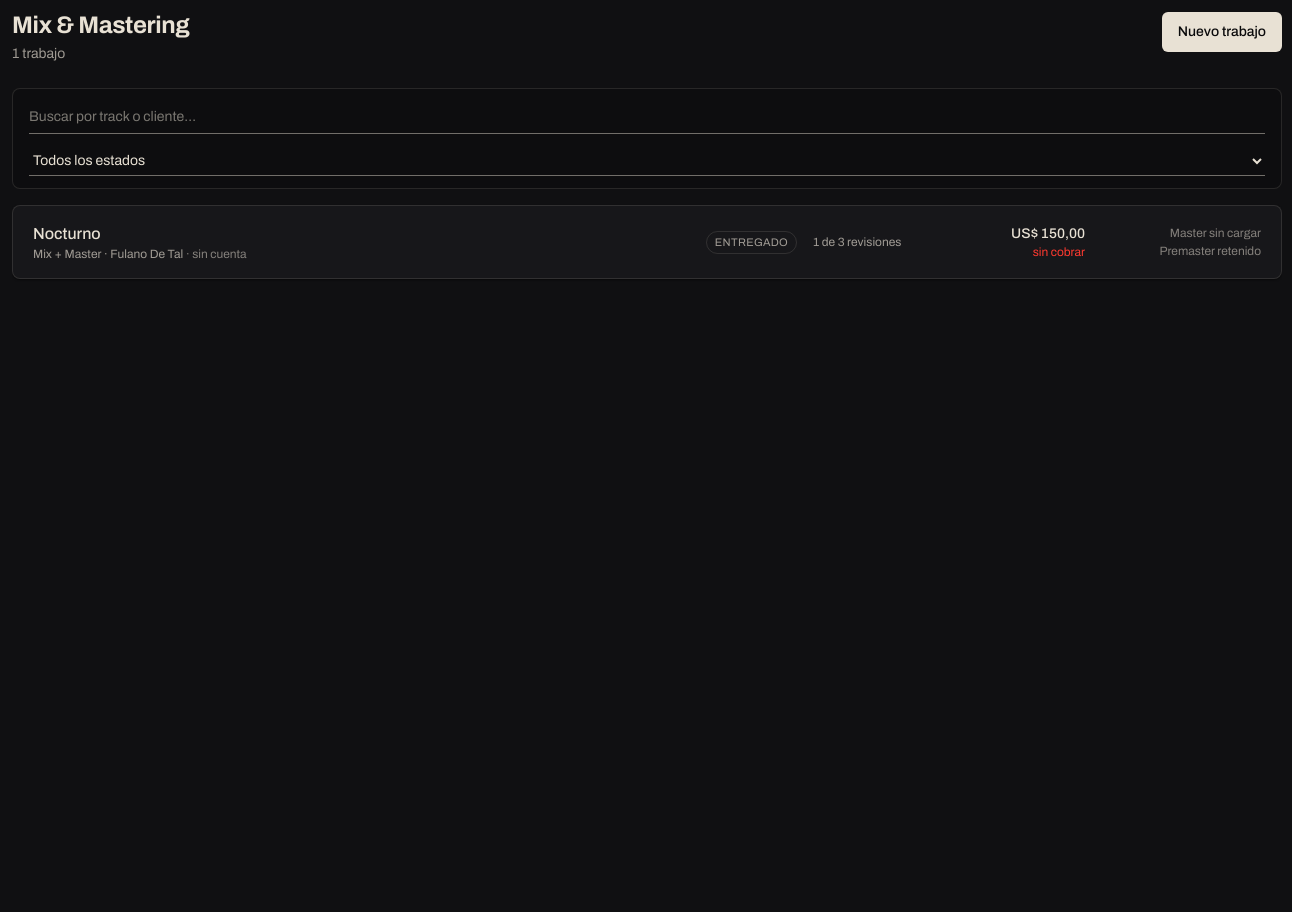
it: las acciones según el estado › entregado ofrece cobrar y liberar, y ya no entregar
Click the text "Nocturno" at (67, 234), box left=33, top=225, right=101, bottom=242
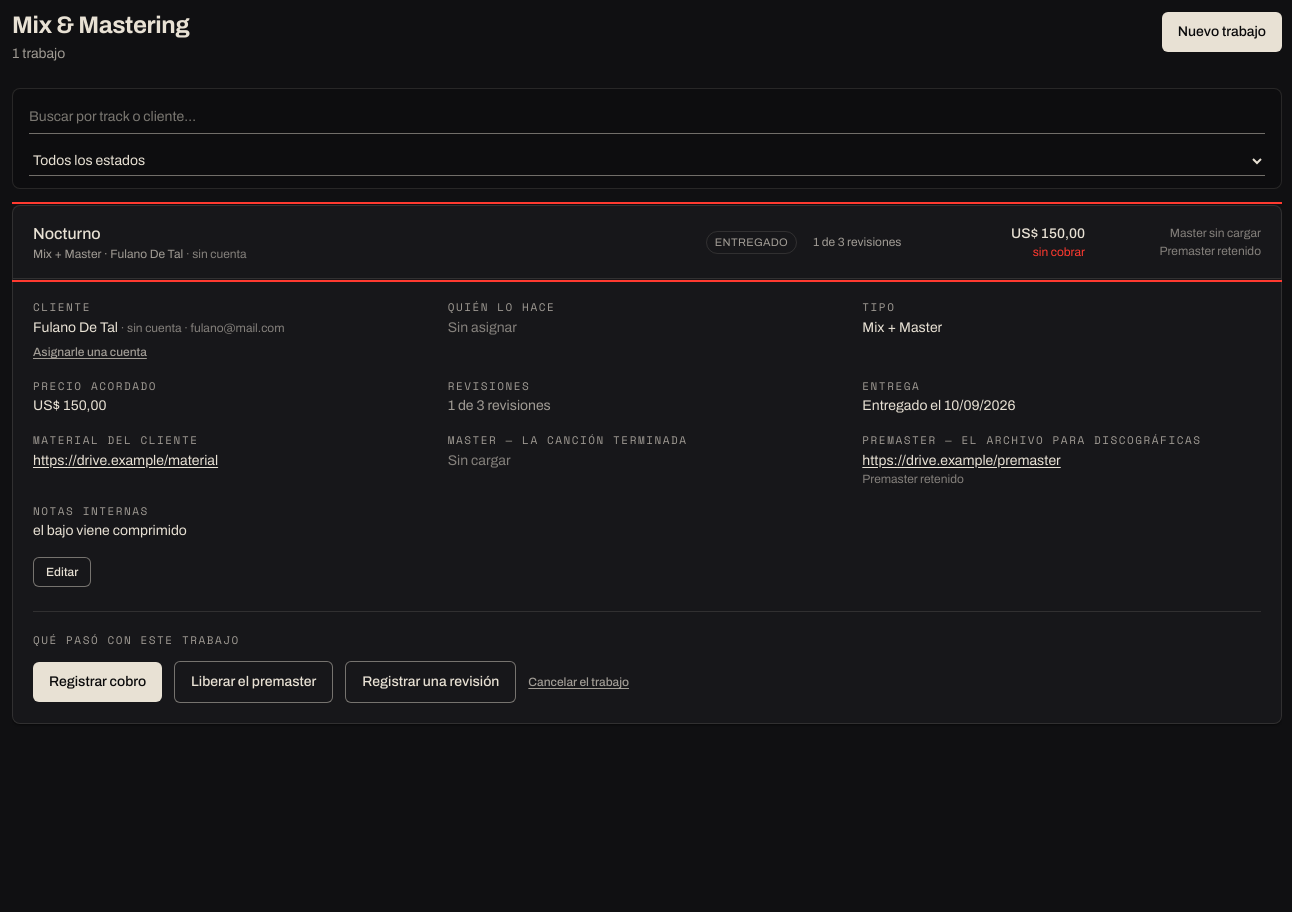
Now the button "Registrar cobro" is shown, box left=33, top=662, right=162, bottom=702
Now the button "Liberar el premaster" is shown, box left=174, top=661, right=333, bottom=703
